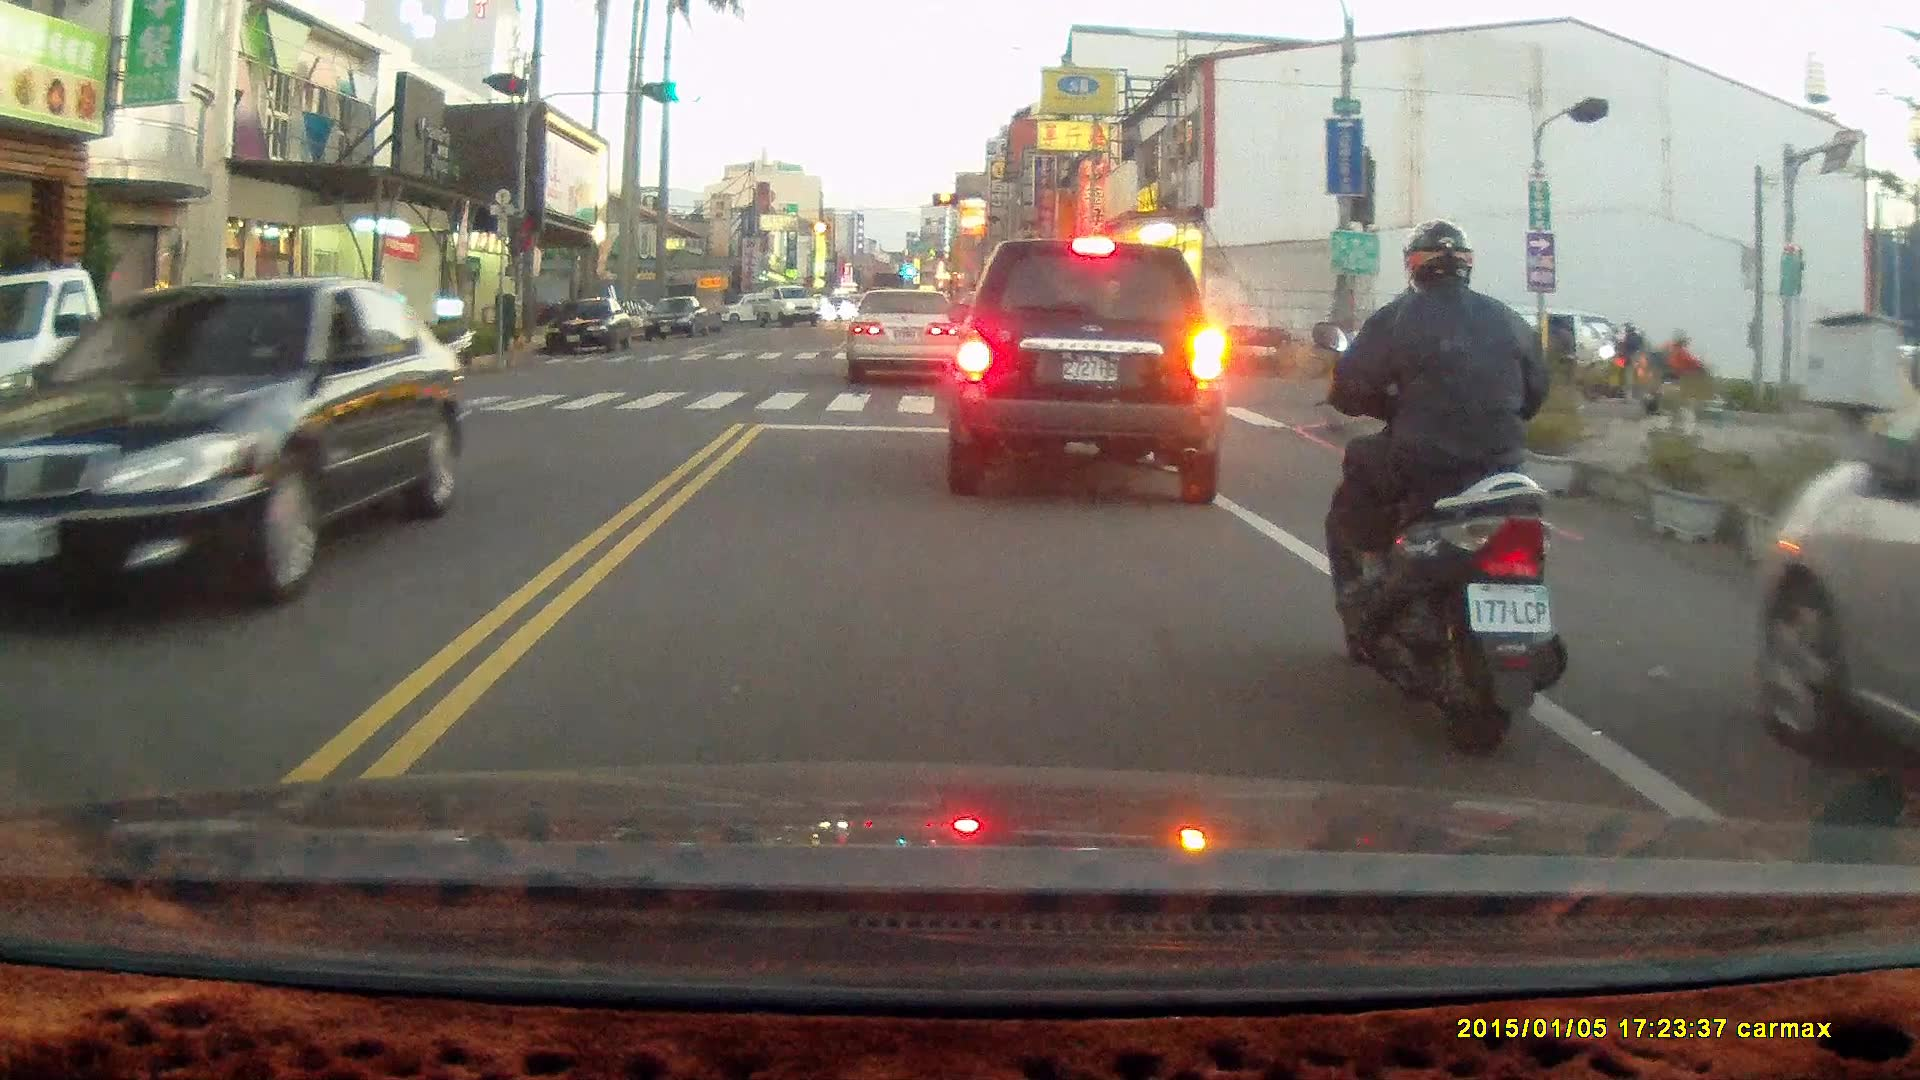pedestrian: (1551, 318, 1574, 385)
rider: (1312, 213, 1572, 754), (1642, 328, 1728, 425), (1589, 316, 1659, 404)
vehicle: (4, 277, 471, 618), (948, 236, 1228, 505), (1756, 416, 1920, 790), (851, 290, 963, 387), (547, 298, 640, 354), (643, 296, 710, 342)
